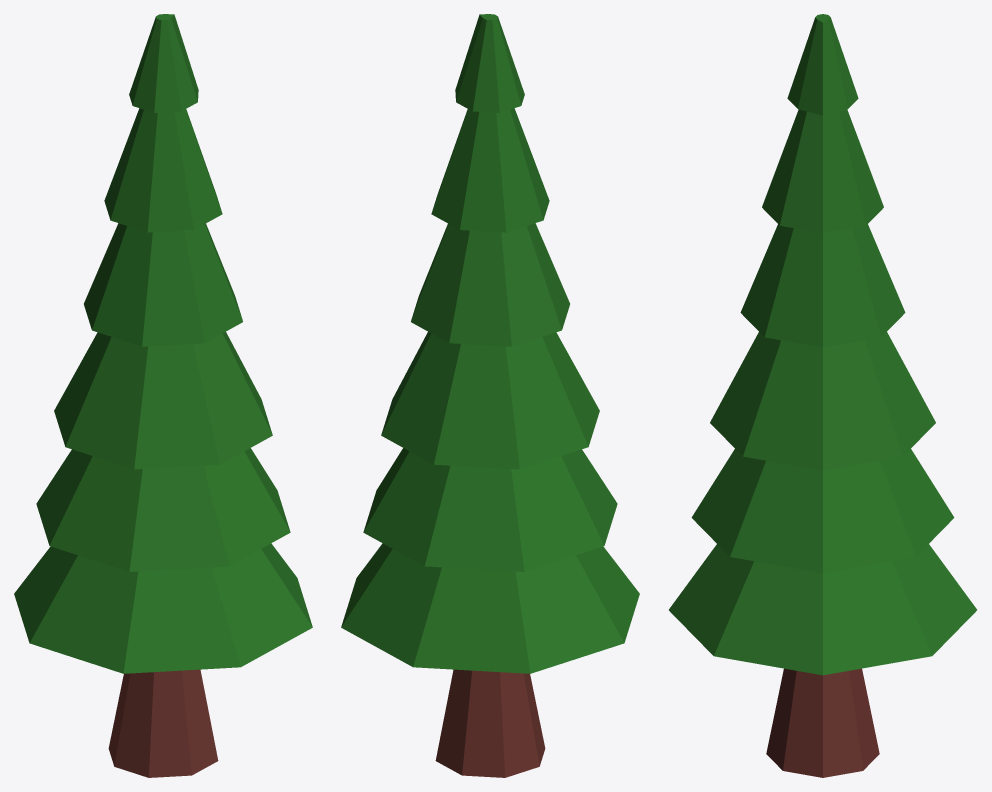
The model's file is Pine_2.fbx.
3 views of the same model, side by side, from view 1: azimuth 30°, elevation 25°; view 2: azimuth 150°, elevation 25°; view 3: azimuth 270°, elevation 25° (orthographic).
Visible parts, largest first — view 1: Cylinder; view 2: Cylinder; view 3: Cylinder.
Boxes of the visible parts, left/top/right/bottom form: Cylinder: left=14, top=14, right=312, bottom=777; Cylinder: left=341, top=14, right=639, bottom=777; Cylinder: left=669, top=14, right=976, bottom=777.
Size of the model in its own units: 300 by 790 by 300.
